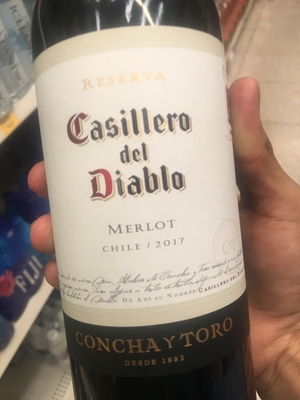casillero del diablo merlot: (27, 8, 266, 400)
